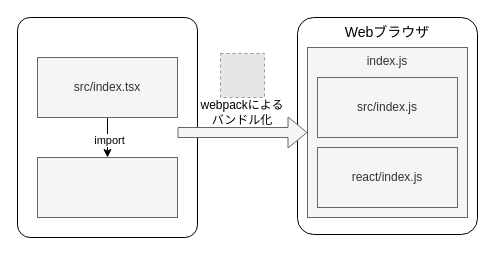
Image size: 495x255. Some labels were removed from this diagram. Grey dashed boxes stand in for pictures. The shapes that lost their labels are listed below. From the top down, each one's box as (x1, y1, x2, y2) in pixels, then its label:
(16, 16, 198, 238): Node.js
(36, 156, 178, 218): <JavaScriptライブラリ> react
